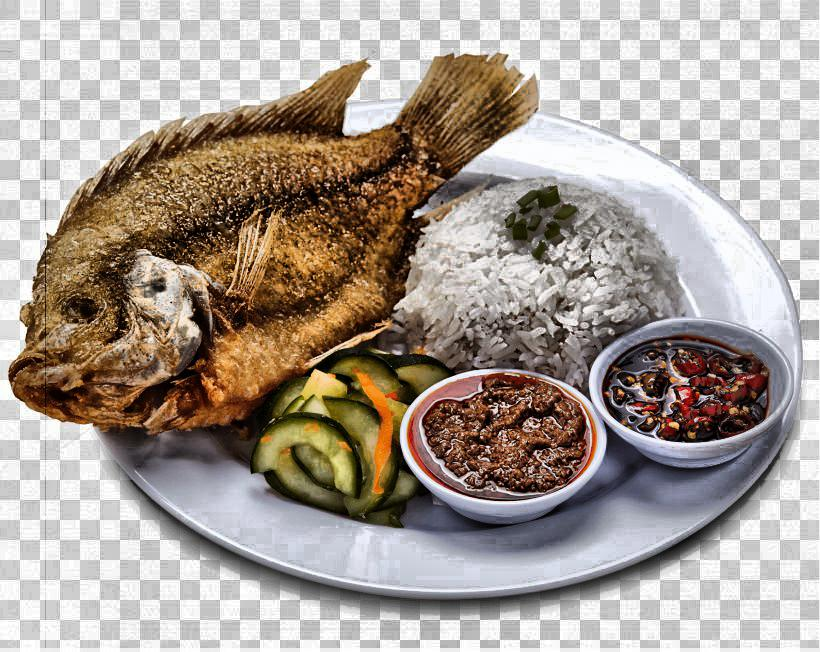fish: (14, 40, 610, 416)
